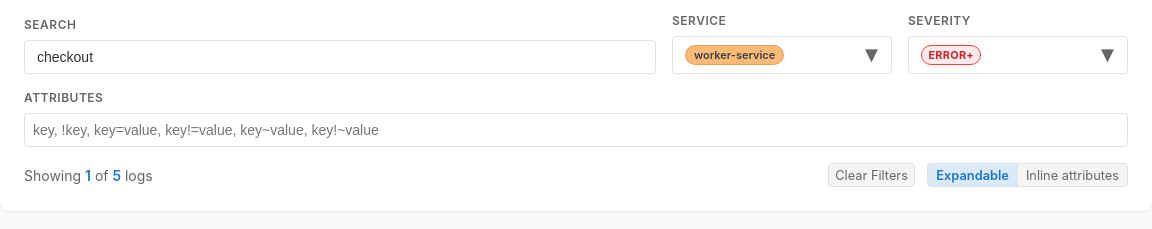
Scenario: LogFilters › shows and applies clear filters action
Expected: the field named "Search logs" holds "checkout", [24,40,656,74]
Expected: the button labelled "worker-service ▾" is shown, [672,36,892,74]
Click the button "Clear Filters".
click(872, 175)  # box [828,163,915,187]
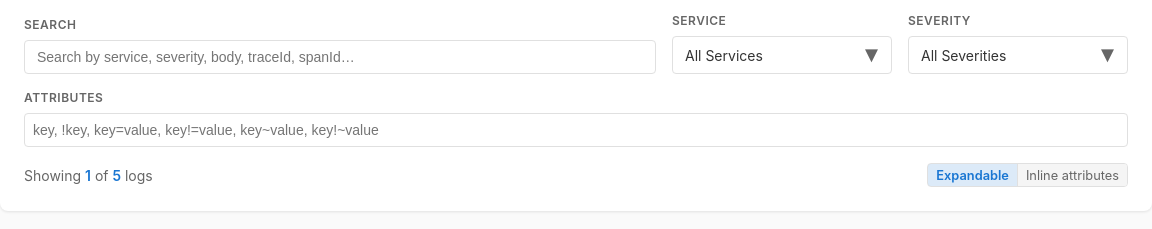
Result: the field named "Search logs" is empty at [24,40,656,74]
Result: the button labelled "All Services ▾" is shown at [672,36,892,74]
Result: the button with aria-label "Severity" shows "All Severities" at [908,36,1128,74]
